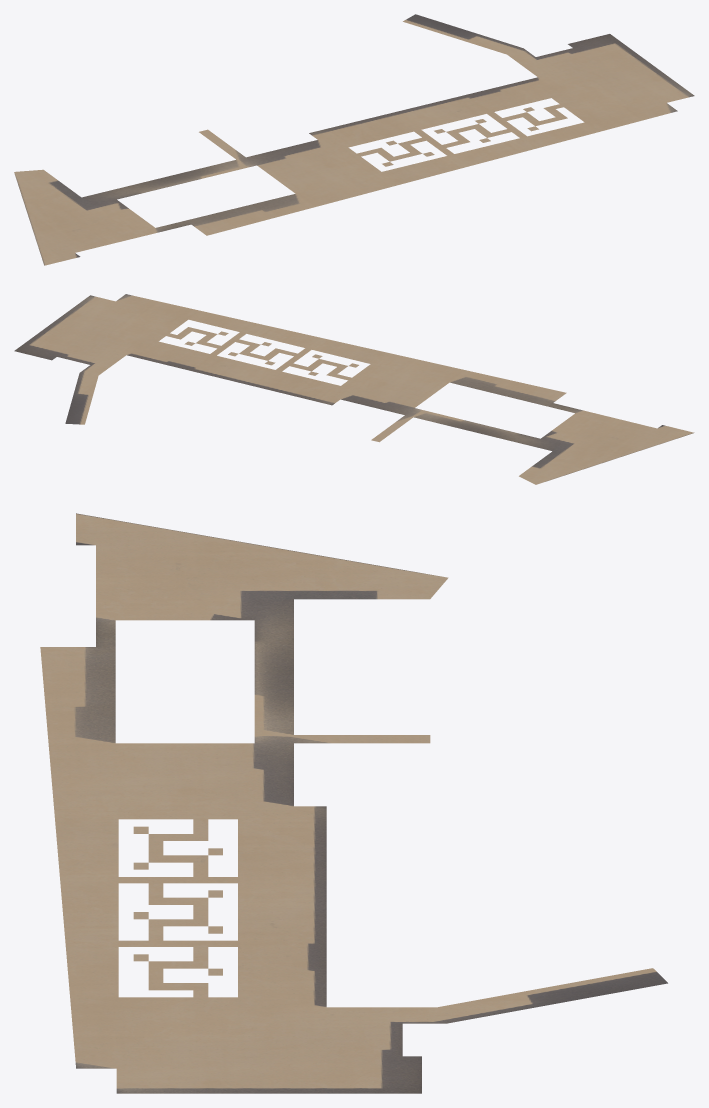
The model's file is Asfalto cucinato 2K carta beige.glb.
The picture shows the model from 3 angles, top to bottom: view 1: azimuth 30°, elevation 25°; view 2: azimuth 150°, elevation 25°; view 3: azimuth 270°, elevation 25°; orthographic projection. The views are drawn at different scales.
Parts seen in each view (by area): view 1: Obj_000001_1; view 2: Obj_000001_1; view 3: Obj_000001_1.
Part boxes in pixels (left/top/right/bottom): Obj_000001_1: left=14, top=14, right=694, bottom=265; Obj_000001_1: left=14, top=294, right=694, bottom=484; Obj_000001_1: left=40, top=513, right=667, bottom=1093.
Bounding box in the file's own units: 230 × 1.77e-05 × 105.
1 material, 1 textured.
